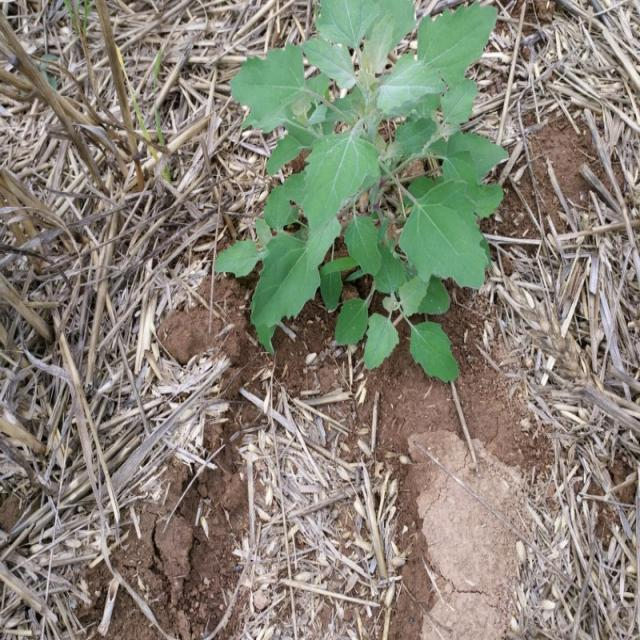ca: (216, 1, 508, 382)
